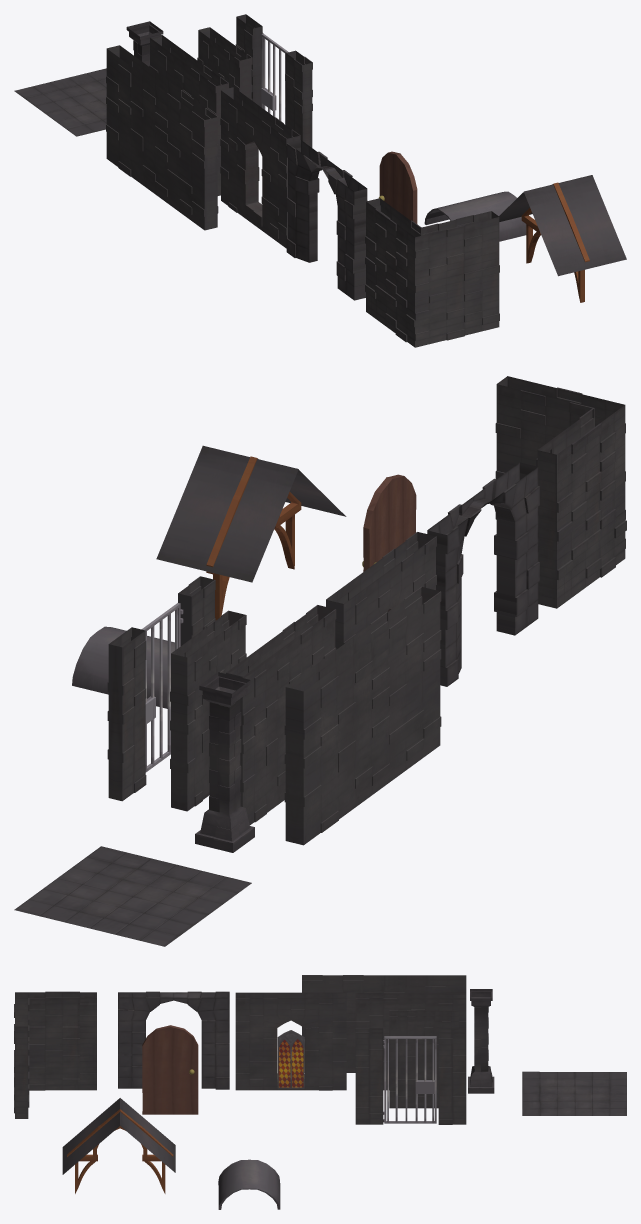
Rendered from tile mappp 2.fbx.
3 renders of one model, top to bottom at view 1: azimuth 30°, elevation 25°; view 2: azimuth 150°, elevation 25°; view 3: azimuth 270°, elevation 25°, orthographic. The views are drawn at different scales.
Visible parts, largest first — view 1: Wall_2_corner, Wall_4_long, Wall_Window, Wall_Door, polySurface9, Floor, Cell_wall, Wall_1, Wall_3_short, pasted__pSphere1, Roof, polySurface11 (+2 smaller); view 2: Wall_4_long, Wall_2_corner, Floor, polySurface9, Wall_Door, Wall_1, Wall_3_short, Cell_wall, Pillar, Wall_Window, pasted__pSphere1, Roof (+2 smaller); view 3: Wall_Window, Wall_2_corner, Wall_Door, Cell_wall, pasted__pSphere1, Floor, Wall_3_short, Wall_4_long, Wall_1, polySurface9, Cell_door, Roof (+3 smaller).
Boxes of the visible parts, x1,y1,x2,y2 form: Wall_2_corner: (365, 198, 499, 347); Wall_4_long: (106, 45, 218, 230); Wall_Window: (220, 87, 300, 248); Wall_Door: (286, 140, 367, 300); polySurface9: (499, 175, 626, 276); Floor: (14, 68, 106, 136); Cell_wall: (235, 14, 312, 147); Wall_1: (149, 35, 228, 195); Wall_3_short: (197, 27, 252, 100); pasted__pSphere1: (379, 151, 417, 223); Roof: (424, 191, 526, 241); polySurface11: (521, 182, 589, 302); Wall_4_long: (284, 586, 441, 845); Wall_2_corner: (495, 376, 626, 608); Floor: (14, 846, 251, 946); polySurface9: (156, 445, 346, 582); Wall_Door: (427, 462, 539, 686); Wall_1: (226, 605, 336, 825); Wall_3_short: (170, 610, 246, 811); Cell_wall: (107, 576, 215, 801); Pillar: (195, 672, 254, 852); Wall_Window: (326, 532, 436, 649); pasted__pSphere1: (362, 474, 416, 571); Roof: (72, 626, 174, 708); Wall_Window: (235, 992, 346, 1090); Wall_2_corner: (14, 991, 96, 1118); Wall_Door: (118, 991, 229, 1089); Cell_wall: (355, 1028, 466, 1124); pasted__pSphere1: (142, 1025, 198, 1114); Floor: (522, 1071, 626, 1115); Wall_3_short: (389, 1010, 459, 1108); Wall_4_long: (302, 975, 466, 1072); Wall_1: (355, 993, 466, 1090); polySurface9: (62, 1098, 175, 1174); Cell_door: (383, 1036, 436, 1123); Roof: (218, 1159, 280, 1209).
Size of the model in its own units: 20.15 by 10.05 by 45.67.
